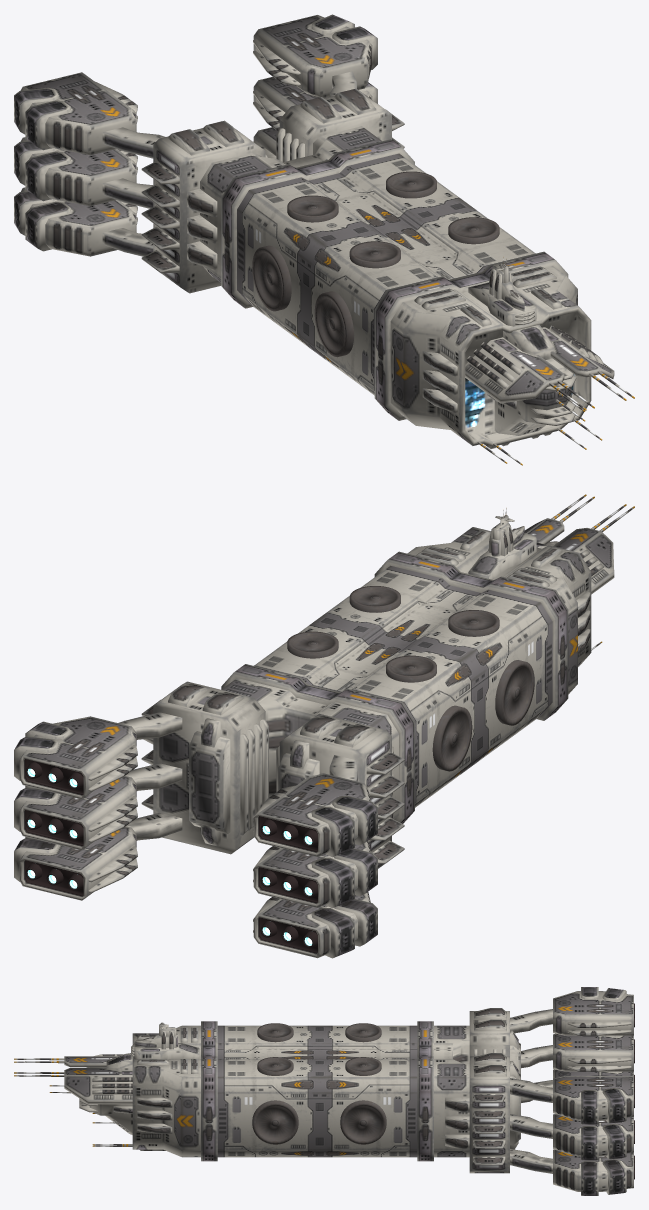
Rendered from tanker-tun.glb.
3 views of the same model, one above another, from view 1: azimuth 30°, elevation 25°; view 2: azimuth 150°, elevation 25°; view 3: azimuth 270°, elevation 25° (orthographic). The views are drawn at different scales.
Visible parts, largest first — view 1: hull; view 2: hull; view 3: hull.
Part boxes in pixels (left/top/right/bottom): hull: left=14, top=14, right=634, bottom=465; hull: left=14, top=494, right=634, bottom=958; hull: left=14, top=987, right=634, bottom=1195.
Size of the model in its own units: 0.4457 by 0.2168 by 1.
1 material, 1 textured.
